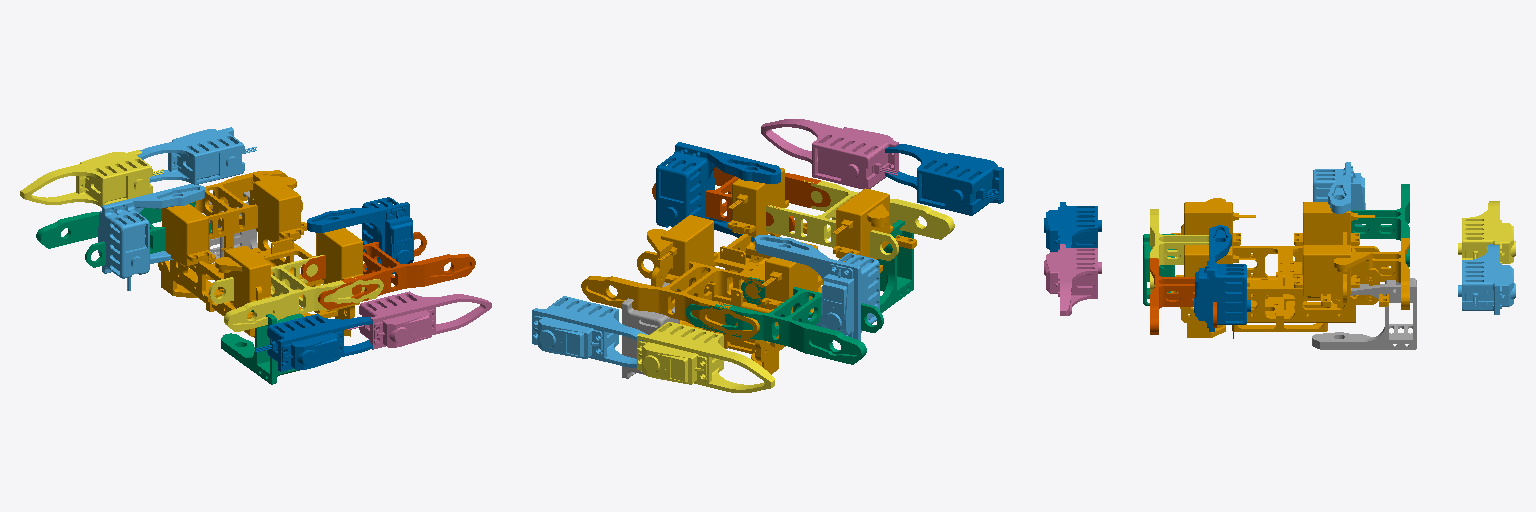
robot.urdf — facehugger:
<?xml version="1.0" ?>
<robot name="facehugger">

  <!-- BASE LINK -->
  <link name="base_link">
    <inertial>
      <origin xyz="0.000241 0.004394 0.008479" rpy="0 0 0"/>
      <mass value="0.631194"/>
      <inertia ixx="0.000956112" ixy="1.7235e-05" ixz="-5.969e-06" iyy="0.000609163" iyz="-4.9716e-05" izz="0.001286905"/>
    </inertial>
    <visual>
      <origin xyz="0 0 0" rpy="0 0 0"/>
      <geometry>
        <mesh filename="exported_meshes/QuadrupedBody.stl" scale="0.001 0.001 0.001"/>
      </geometry>
    </visual>
    <visual>
      <origin xyz="-0.041500 0.049000 0.026000" rpy="0.000000 0.000000 0.000000"/>
      <geometry>
        <mesh filename="exported_meshes/leg_mount_L.stl" scale="0.001 0.001 0.001"/>
      </geometry>
    </visual>
    <visual>
      <origin xyz="0.041500 -0.049000 0.026000" rpy="0.000000 0.000000 3.141593"/>
      <geometry>
        <mesh filename="exported_meshes/leg_mount_L.stl" scale="0.001 0.001 0.001"/>
      </geometry>
    </visual>
    <visual>
      <origin xyz="0.041500 0.049000 0.026000" rpy="0.000000 0.000000 0.000000"/>
      <geometry>
        <mesh filename="exported_meshes/leg_mount_R.stl" scale="0.001 0.001 0.001"/>
      </geometry>
    </visual>
    <visual>
      <origin xyz="-0.041500 -0.049000 0.026000" rpy="0.000000 0.000000 3.141593"/>
      <geometry>
        <mesh filename="exported_meshes/leg_mount_R.stl" scale="0.001 0.001 0.001"/>
      </geometry>
    </visual>
    <visual>
      <origin xyz="-0.041500 0.049000 0.026000" rpy="3.141593 -0.000000 1.570796"/>
      <geometry>
        <mesh filename="exported_meshes/servo.stl" scale="0.001 0.001 0.001"/>
      </geometry>
    </visual>
    <visual>
      <origin xyz="0.041500 -0.049000 0.026000" rpy="3.141593 -0.000000 1.570796"/>
      <geometry>
        <mesh filename="exported_meshes/servo.stl" scale="0.001 0.001 0.001"/>
      </geometry>
    </visual>
    <visual>
      <origin xyz="0.041500 0.049000 0.026000" rpy="3.141593 -0.000000 1.570796"/>
      <geometry>
        <mesh filename="exported_meshes/servo.stl" scale="0.001 0.001 0.001"/>
      </geometry>
    </visual>
    <visual>
      <origin xyz="-0.041500 -0.049000 0.026000" rpy="3.141593 -0.000000 1.570796"/>
      <geometry>
        <mesh filename="exported_meshes/servo.stl" scale="0.001 0.001 0.001"/>
      </geometry>
    </visual>
    <collision>
      <origin xyz="0 0 0" rpy="0 0 0"/>
      <geometry>
        <mesh filename="exported_meshes/QuadrupedBody.stl" scale="0.001 0.001 0.001"/>
      </geometry>
    </collision>
  </link>

  <!-- LEG ASSEMBLY METADATA (mm, leg-assembly-local frame)
         BodyToLink1Point : 11.970 -0.000 -4.200
         Link1ToLink2Point: 34.565 50.920 10.246
         Link2ToLink3Point: 34.570 145.620 10.246
         FootTip (leg_lower.stl max +Y centroid, in link3 frame): -8.919 -1.279 0.028 -->

  <!-- LEG: FL  (side=L, rpy_z_deg=+0.0, shoulder limits=[-105.0°, +45.0°]) -->
  <joint name="fl_shoulder_joint" type="revolute">
    <parent link="base_link"/>
    <child link="fl_link1"/>
    <origin xyz="-0.041500 0.049000 0.026000" rpy="0 0 0.0"/>
    <axis xyz="0.0 0.0 1.0"/>
    <limit lower="-1.832596" upper="0.785398" effort="2.94" velocity="5.0"/>
  </joint>
  <joint name="fl_hip_joint" type="revolute">
    <parent link="fl_link1"/>
    <child link="fl_link2"/>
    <origin xyz="0.022595 0.050920 0.014446" rpy="0 0 0.0"/>
    <axis xyz="1.0 0.0 0.0"/>
    <limit lower="-2.356194" upper="0.785398" effort="2.94" velocity="5.0"/>
  </joint>
  <joint name="fl_knee_joint" type="revolute">
    <parent link="fl_link2"/>
    <child link="fl_link3"/>
    <origin xyz="0.000005 0.094700 0.000000" rpy="0 0 0.0"/>
    <axis xyz="1.0 0.0 0.0"/>
    <limit lower="-1.570796" upper="1.570796" effort="2.94" velocity="5.0"/>
  </joint>
  <link name="fl_link1">
    <inertial>
      <origin xyz="0.067874 -0.012449 0.032955" rpy="0 0 0"/>
      <mass value="0.144017"/>
      <inertia ixx="0.00038463" ixy="-3.8915e-05" ixz="-3.8665e-05" iyy="0.000166889" iyz="-9.603e-05" izz="0.000273574"/>
    </inertial>
    <visual>
      <origin xyz="0 0 0" rpy="0 0 0"/>
      <geometry>
        <mesh filename="exported_meshes/leg_shoulder_L.stl" scale="0.001 0.001 0.001"/>
      </geometry>
    </visual>
    <collision>
      <origin xyz="0 0 0" rpy="0 0 0"/>
      <geometry>
        <mesh filename="exported_meshes/leg_shoulder_L.stl" scale="0.001 0.001 0.001"/>
      </geometry>
    </collision>
  </link>
  <link name="fl_link2">
    <inertial>
      <origin xyz="-0.012999 0.047374 -0.000173" rpy="0 0 0"/>
      <mass value="0.173381"/>
      <inertia ixx="0.001898729" ixy="-0.000367526" ixz="-3.717e-05" iyy="0.000183013" iyz="-0.000171669" izz="0.002034679"/>
    </inertial>
    <visual>
      <origin xyz="0 0 0" rpy="0 0 0"/>
      <geometry>
        <mesh filename="exported_meshes/leg_upper.stl" scale="0.001 0.001 0.001"/>
      </geometry>
    </visual>
    <collision>
      <origin xyz="0 0 0" rpy="0 0 0"/>
      <geometry>
        <mesh filename="exported_meshes/leg_upper.stl" scale="0.001 0.001 0.001"/>
      </geometry>
    </collision>
  </link>
  <link name="fl_link3">
    <inertial>
      <origin xyz="0.211809 0.097994 0.004800" rpy="0 0 0"/>
      <mass value="0.111653"/>
      <inertia ixx="0.003205754" ixy="-0.000166056" ixz="-9.481e-06" iyy="4.2563e-05" iyz="-0.000190829" izz="0.00320303"/>
    </inertial>
    <visual>
      <origin xyz="0 0 0" rpy="0 0 0"/>
      <geometry>
        <mesh filename="exported_meshes/leg_lower.stl" scale="0.001 0.001 0.001"/>
      </geometry>
    </visual>
    <collision>
      <origin xyz="0 0 0" rpy="0 0 0"/>
      <geometry>
        <mesh filename="exported_meshes/leg_lower.stl" scale="0.001 0.001 0.001"/>
      </geometry>
    </collision>
  </link>

  <!-- LEG: BR  (side=L, rpy_z_deg=+180.0, shoulder limits=[-45.0°, +105.0°]) -->
  <joint name="br_shoulder_joint" type="revolute">
    <parent link="base_link"/>
    <child link="br_link1"/>
    <origin xyz="0.041500 -0.049000 0.026000" rpy="0 0 3.141593"/>
    <axis xyz="0.0 0.0 1.0"/>
    <limit lower="-0.785398" upper="1.832596" effort="2.94" velocity="5.0"/>
  </joint>
  <joint name="br_hip_joint" type="revolute">
    <parent link="br_link1"/>
    <child link="br_link2"/>
    <origin xyz="0.022595 0.050920 0.014446" rpy="0 0 0.0"/>
    <axis xyz="1.0 0.0 0.0"/>
    <limit lower="-2.356194" upper="0.785398" effort="2.94" velocity="5.0"/>
  </joint>
  <joint name="br_knee_joint" type="revolute">
    <parent link="br_link2"/>
    <child link="br_link3"/>
    <origin xyz="0.000005 0.094700 0.000000" rpy="0 0 0.0"/>
    <axis xyz="1.0 0.0 0.0"/>
    <limit lower="-1.570796" upper="1.570796" effort="2.94" velocity="5.0"/>
  </joint>
  <link name="br_link1">
    <inertial>
      <origin xyz="0.067874 -0.012449 0.032955" rpy="0 0 0"/>
      <mass value="0.144017"/>
      <inertia ixx="0.00038463" ixy="-3.8915e-05" ixz="-3.8665e-05" iyy="0.000166889" iyz="-9.603e-05" izz="0.000273574"/>
    </inertial>
    <visual>
      <origin xyz="0 0 0" rpy="0 0 0"/>
      <geometry>
        <mesh filename="exported_meshes/leg_shoulder_L.stl" scale="0.001 0.001 0.001"/>
      </geometry>
    </visual>
    <collision>
      <origin xyz="0 0 0" rpy="0 0 0"/>
      <geometry>
        <mesh filename="exported_meshes/leg_shoulder_L.stl" scale="0.001 0.001 0.001"/>
      </geometry>
    </collision>
  </link>
  <link name="br_link2">
    <inertial>
      <origin xyz="-0.012999 0.047374 -0.000173" rpy="0 0 0"/>
      <mass value="0.173381"/>
      <inertia ixx="0.001898729" ixy="-0.000367526" ixz="-3.717e-05" iyy="0.000183013" iyz="-0.000171669" izz="0.002034679"/>
    </inertial>
    <visual>
      <origin xyz="0 0 0" rpy="0 0 0"/>
      <geometry>
        <mesh filename="exported_meshes/leg_upper.stl" scale="0.001 0.001 0.001"/>
      </geometry>
    </visual>
    <collision>
      <origin xyz="0 0 0" rpy="0 0 0"/>
      <geometry>
        <mesh filename="exported_meshes/leg_upper.stl" scale="0.001 0.001 0.001"/>
      </geometry>
    </collision>
  </link>
  <link name="br_link3">
    <inertial>
      <origin xyz="0.211809 0.097994 0.004800" rpy="0 0 0"/>
      <mass value="0.111653"/>
      <inertia ixx="0.003205754" ixy="-0.000166056" ixz="-9.481e-06" iyy="4.2563e-05" iyz="-0.000190829" izz="0.00320303"/>
    </inertial>
    <visual>
      <origin xyz="0 0 0" rpy="0 0 0"/>
      <geometry>
        <mesh filename="exported_meshes/leg_lower.stl" scale="0.001 0.001 0.001"/>
      </geometry>
    </visual>
    <collision>
      <origin xyz="0 0 0" rpy="0 0 0"/>
      <geometry>
        <mesh filename="exported_meshes/leg_lower.stl" scale="0.001 0.001 0.001"/>
      </geometry>
    </collision>
  </link>

  <!-- LEG: FR  (side=R, rpy_z_deg=+0.0, shoulder limits=[-45.0°, +105.0°]) -->
  <joint name="fr_shoulder_joint" type="revolute">
    <parent link="base_link"/>
    <child link="fr_link1"/>
    <origin xyz="0.041500 0.049000 0.026000" rpy="0 0 0.0"/>
    <axis xyz="0.0 0.0 1.0"/>
    <limit lower="-0.785398" upper="1.832596" effort="2.94" velocity="5.0"/>
  </joint>
  <joint name="fr_hip_joint" type="revolute">
    <parent link="fr_link1"/>
    <child link="fr_link2"/>
    <origin xyz="0.022595 0.050920 0.014446" rpy="0 0 0.0"/>
    <axis xyz="1.0 0.0 0.0"/>
    <limit lower="-2.356194" upper="0.785398" effort="2.94" velocity="5.0"/>
  </joint>
  <joint name="fr_knee_joint" type="revolute">
    <parent link="fr_link2"/>
    <child link="fr_link3"/>
    <origin xyz="0.000005 0.094700 0.000000" rpy="0 0 0.0"/>
    <axis xyz="1.0 0.0 0.0"/>
    <limit lower="-1.570796" upper="1.570796" effort="2.94" velocity="5.0"/>
  </joint>
  <link name="fr_link1">
    <inertial>
      <origin xyz="-0.001997 -0.033774 0.028155" rpy="0 0 0"/>
      <mass value="0.144017"/>
      <inertia ixx="0.00038463" ixy="3.8915e-05" ixz="-3.8665e-05" iyy="0.000166889" iyz="9.603e-05" izz="0.000273574"/>
    </inertial>
    <visual>
      <origin xyz="0 0 0" rpy="0 0 0"/>
      <geometry>
        <mesh filename="exported_meshes/leg_shoulder_R.stl" scale="0.001 0.001 0.001"/>
      </geometry>
    </visual>
    <collision>
      <origin xyz="0 0 0" rpy="0 0 0"/>
      <geometry>
        <mesh filename="exported_meshes/leg_shoulder_R.stl" scale="0.001 0.001 0.001"/>
      </geometry>
    </collision>
  </link>
  <link name="fr_link2">
    <inertial>
      <origin xyz="-0.012999 0.047374 -0.000173" rpy="0 0 0"/>
      <mass value="0.173381"/>
      <inertia ixx="0.001898729" ixy="-0.000367526" ixz="-3.717e-05" iyy="0.000183013" iyz="-0.000171669" izz="0.002034679"/>
    </inertial>
    <visual>
      <origin xyz="0 0 0" rpy="0 0 0"/>
      <geometry>
        <mesh filename="exported_meshes/leg_upper.stl" scale="0.001 0.001 0.001"/>
      </geometry>
    </visual>
    <collision>
      <origin xyz="0 0 0" rpy="0 0 0"/>
      <geometry>
        <mesh filename="exported_meshes/leg_upper.stl" scale="0.001 0.001 0.001"/>
      </geometry>
    </collision>
  </link>
  <link name="fr_link3">
    <inertial>
      <origin xyz="0.211809 0.097994 0.004800" rpy="0 0 0"/>
      <mass value="0.111653"/>
      <inertia ixx="0.003205754" ixy="-0.000166056" ixz="-9.481e-06" iyy="4.2563e-05" iyz="-0.000190829" izz="0.00320303"/>
    </inertial>
    <visual>
      <origin xyz="0 0 0" rpy="0 0 0"/>
      <geometry>
        <mesh filename="exported_meshes/leg_lower.stl" scale="0.001 0.001 0.001"/>
      </geometry>
    </visual>
    <collision>
      <origin xyz="0 0 0" rpy="0 0 0"/>
      <geometry>
        <mesh filename="exported_meshes/leg_lower.stl" scale="0.001 0.001 0.001"/>
      </geometry>
    </collision>
  </link>

  <!-- LEG: BL  (side=R, rpy_z_deg=+180.0, shoulder limits=[-105.0°, +45.0°]) -->
  <joint name="bl_shoulder_joint" type="revolute">
    <parent link="base_link"/>
    <child link="bl_link1"/>
    <origin xyz="-0.041500 -0.049000 0.026000" rpy="0 0 3.141593"/>
    <axis xyz="0.0 0.0 1.0"/>
    <limit lower="-1.832596" upper="0.785398" effort="2.94" velocity="5.0"/>
  </joint>
  <joint name="bl_hip_joint" type="revolute">
    <parent link="bl_link1"/>
    <child link="bl_link2"/>
    <origin xyz="0.022595 0.050920 0.014446" rpy="0 0 0.0"/>
    <axis xyz="1.0 0.0 0.0"/>
    <limit lower="-2.356194" upper="0.785398" effort="2.94" velocity="5.0"/>
  </joint>
  <joint name="bl_knee_joint" type="revolute">
    <parent link="bl_link2"/>
    <child link="bl_link3"/>
    <origin xyz="0.000005 0.094700 0.000000" rpy="0 0 0.0"/>
    <axis xyz="1.0 0.0 0.0"/>
    <limit lower="-1.570796" upper="1.570796" effort="2.94" velocity="5.0"/>
  </joint>
  <link name="bl_link1">
    <inertial>
      <origin xyz="-0.001997 -0.033774 0.028155" rpy="0 0 0"/>
      <mass value="0.144017"/>
      <inertia ixx="0.00038463" ixy="3.8915e-05" ixz="-3.8665e-05" iyy="0.000166889" iyz="9.603e-05" izz="0.000273574"/>
    </inertial>
    <visual>
      <origin xyz="0 0 0" rpy="0 0 0"/>
      <geometry>
        <mesh filename="exported_meshes/leg_shoulder_R.stl" scale="0.001 0.001 0.001"/>
      </geometry>
    </visual>
    <collision>
      <origin xyz="0 0 0" rpy="0 0 0"/>
      <geometry>
        <mesh filename="exported_meshes/leg_shoulder_R.stl" scale="0.001 0.001 0.001"/>
      </geometry>
    </collision>
  </link>
  <link name="bl_link2">
    <inertial>
      <origin xyz="-0.012999 0.047374 -0.000173" rpy="0 0 0"/>
      <mass value="0.173381"/>
      <inertia ixx="0.001898729" ixy="-0.000367526" ixz="-3.717e-05" iyy="0.000183013" iyz="-0.000171669" izz="0.002034679"/>
    </inertial>
    <visual>
      <origin xyz="0 0 0" rpy="0 0 0"/>
      <geometry>
        <mesh filename="exported_meshes/leg_upper.stl" scale="0.001 0.001 0.001"/>
      </geometry>
    </visual>
    <collision>
      <origin xyz="0 0 0" rpy="0 0 0"/>
      <geometry>
        <mesh filename="exported_meshes/leg_upper.stl" scale="0.001 0.001 0.001"/>
      </geometry>
    </collision>
  </link>
  <link name="bl_link3">
    <inertial>
      <origin xyz="0.211809 0.097994 0.004800" rpy="0 0 0"/>
      <mass value="0.111653"/>
      <inertia ixx="0.003205754" ixy="-0.000166056" ixz="-9.481e-06" iyy="4.2563e-05" iyz="-0.000190829" izz="0.00320303"/>
    </inertial>
    <visual>
      <origin xyz="0 0 0" rpy="0 0 0"/>
      <geometry>
        <mesh filename="exported_meshes/leg_lower.stl" scale="0.001 0.001 0.001"/>
      </geometry>
    </visual>
    <collision>
      <origin xyz="0 0 0" rpy="0 0 0"/>
      <geometry>
        <mesh filename="exported_meshes/leg_lower.stl" scale="0.001 0.001 0.001"/>
      </geometry>
    </collision>
  </link>
</robot>

--- Facts derived from the render (not from the file) ---
3 views of the same robot in one strip: view 1: azimuth 30°, elevation 25°; view 2: azimuth 150°, elevation 25°; view 3: azimuth 270°, elevation 25° (orthographic).
Robot: facehugger — 13 links, 12 joints (12 revolute); root link base_link; default pose: all joints at 0.
Visible links, largest first — view 1: base_link, fl_link1, bl_link2, br_link3, fl_link3, br_link2, bl_link3, fr_link3, br_link1, fr_link2, fl_link2, bl_link1 (+1 smaller); view 2: base_link, fr_link2, fl_link2, fl_link3, br_link1, fl_link1, br_link3, bl_link3, fr_link3, bl_link2, br_link2, bl_link1 (+1 smaller); view 3: base_link, br_link1, fr_link1, br_link3, fr_link3, fl_link3, bl_link3, fl_link1, fl_link2, br_link2, fr_link2, bl_link2 (+1 smaller).
Boxes of the visible links, x1,y1,x2,y2 form: base_link: (158, 174, 363, 337); fl_link1: (98, 184, 204, 290); bl_link2: (209, 255, 383, 331); br_link3: (348, 291, 491, 349); fl_link3: (20, 150, 163, 207); br_link2: (301, 232, 475, 309); bl_link3: (255, 314, 372, 371); fr_link3: (138, 127, 256, 184); br_link1: (307, 197, 413, 281); fr_link2: (192, 170, 302, 239); fl_link2: (36, 201, 210, 267); bl_link1: (221, 310, 303, 384); base_link: (647, 167, 916, 374); fr_link2: (581, 251, 764, 339); fl_link2: (686, 277, 883, 364); fl_link3: (637, 322, 774, 392); br_link1: (656, 142, 780, 241); fl_link1: (755, 235, 879, 340); br_link3: (761, 119, 898, 188); bl_link3: (885, 144, 1003, 215); fr_link3: (532, 296, 647, 367); bl_link2: (766, 180, 954, 260); br_link2: (652, 167, 830, 231); bl_link1: (877, 220, 913, 312); base_link: (1171, 198, 1388, 337); br_link1: (1194, 225, 1250, 338); fr_link1: (1312, 278, 1416, 349); br_link3: (1044, 244, 1101, 315); fr_link3: (1458, 244, 1515, 314); fl_link3: (1458, 201, 1515, 263); bl_link3: (1044, 202, 1101, 251); fl_link1: (1313, 162, 1365, 224); fl_link2: (1351, 184, 1409, 266); br_link2: (1150, 258, 1216, 334); fr_link2: (1343, 232, 1409, 309); bl_link2: (1150, 209, 1208, 292).
Bounding box of the posed robot: 0.2727 × 0.3888 × 0.0982 m (x, y, z).
21 mesh visuals loaded from 8 distinct referenced files (8 binary STL).
